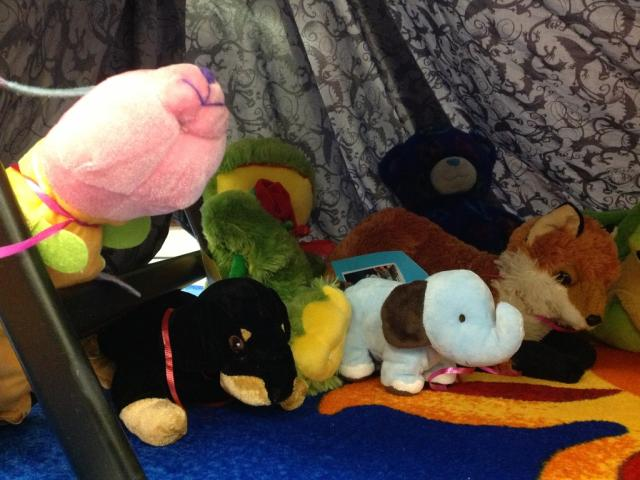Dog: (324, 199, 622, 347), (130, 264, 308, 457)
